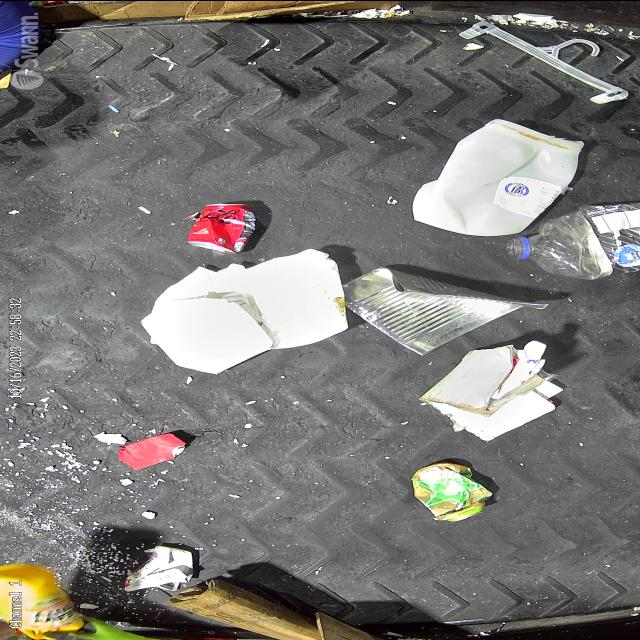can: (186, 202, 258, 254)
milk_jug: (411, 118, 584, 236)
non_white_jug: (0, 562, 84, 640)
plastic_bottle: (503, 202, 640, 280)
